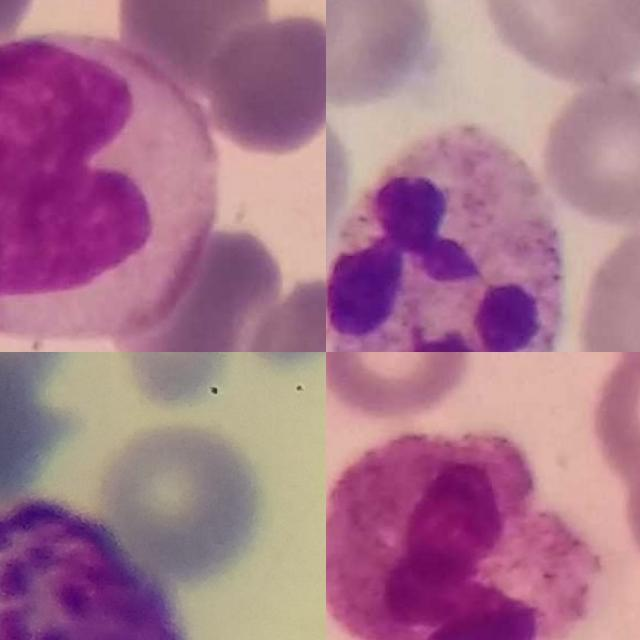Basophil: (0, 496, 206, 640)
Monocyte: (0, 31, 223, 345)
Neutrophil: (326, 117, 565, 352), (326, 433, 595, 640)
